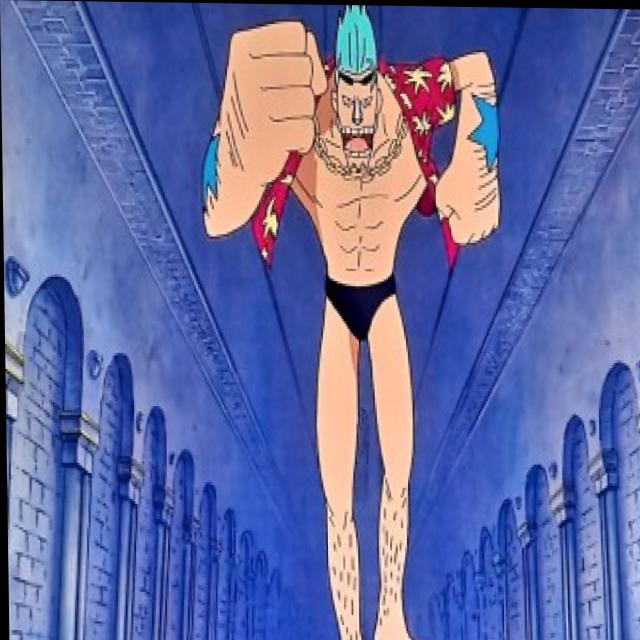Franky: (318, 4, 396, 175)
